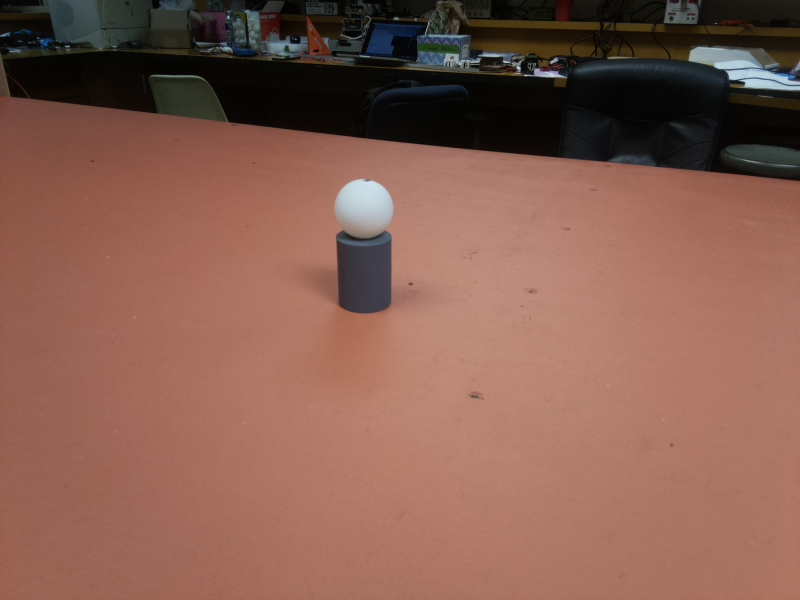corner: (1, 56, 11, 99)
obstacle: (331, 177, 394, 315)
